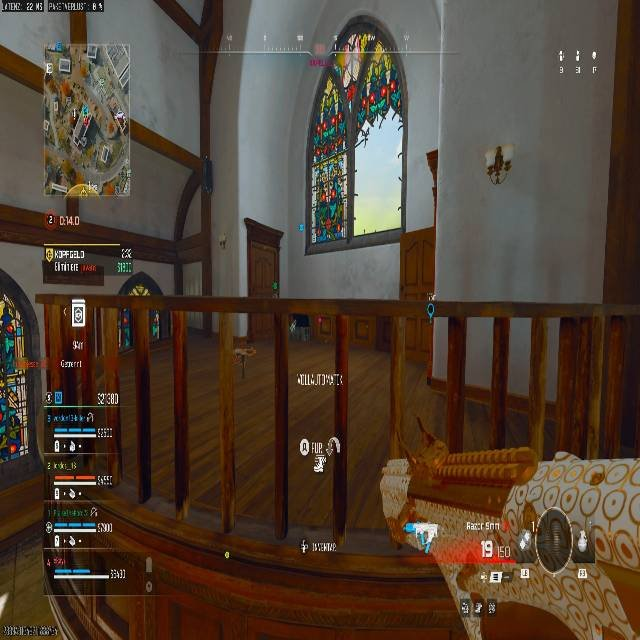head: (336, 14, 383, 59)
player: (317, 13, 403, 145)
